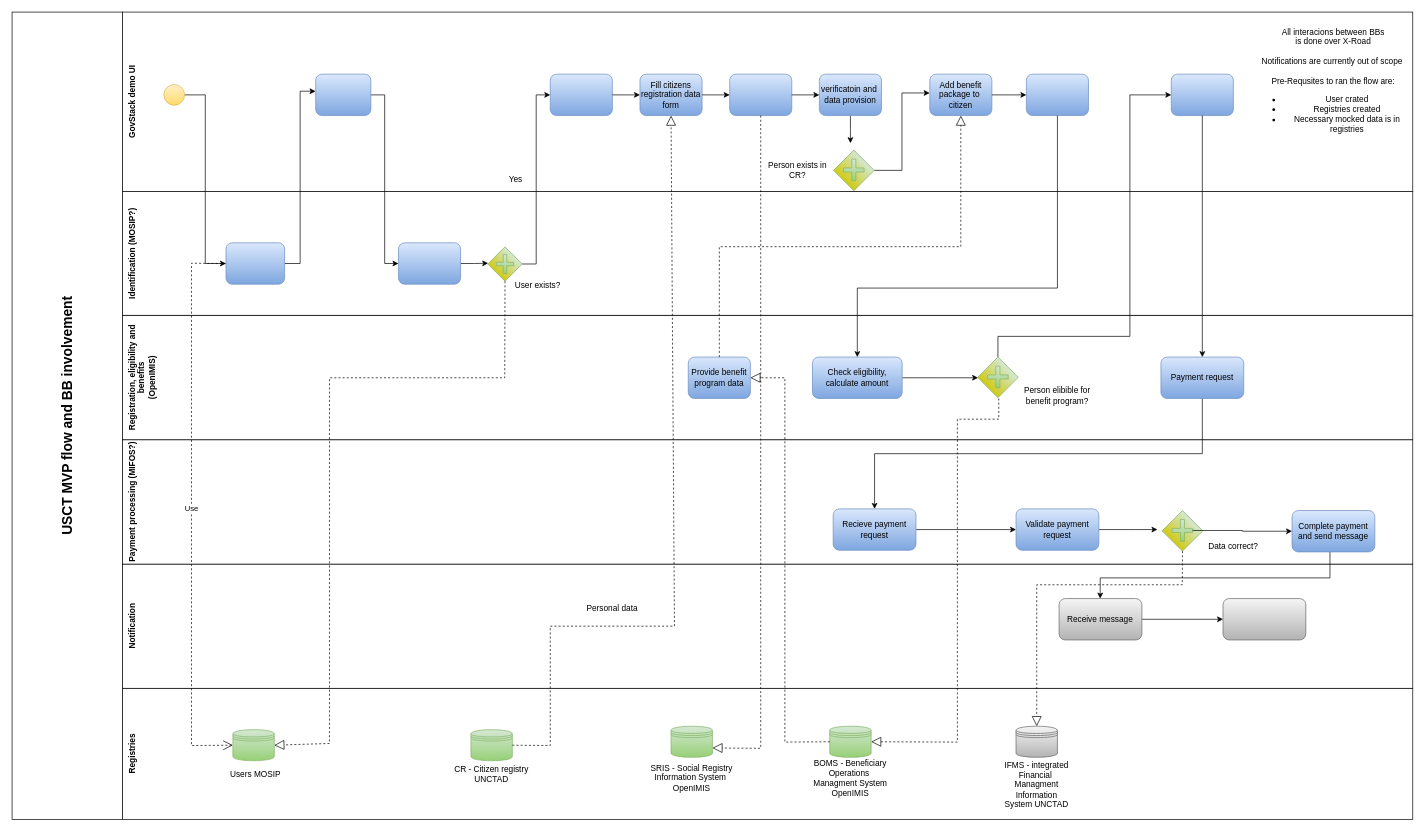
The diagram is 1425 pixels wide and 831 high, and some of its shapes have lost their labels. Each missing label, with the centre of its shape:
"Create payment order" belongs at pixel 1202 94.
"Create users" belongs at pixel 255 263.
"Distribute message" belongs at pixel 1264 619.
"Login to SRIS" belongs at pixel 343 94.
"open citizens registratoin form" belongs at pixel 581 94.
"Submit record" belongs at pixel 1057 94.
"Submit registration form" belongs at pixel 760 94.
"User verification" belongs at pixel 429 263.
